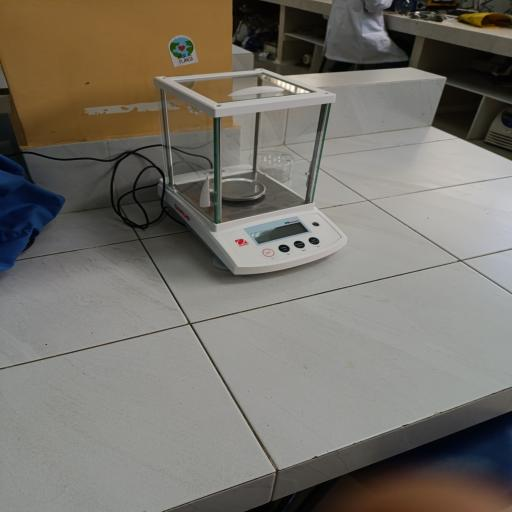Balanza_Analitica_Ohaus: (141, 61, 362, 283)
